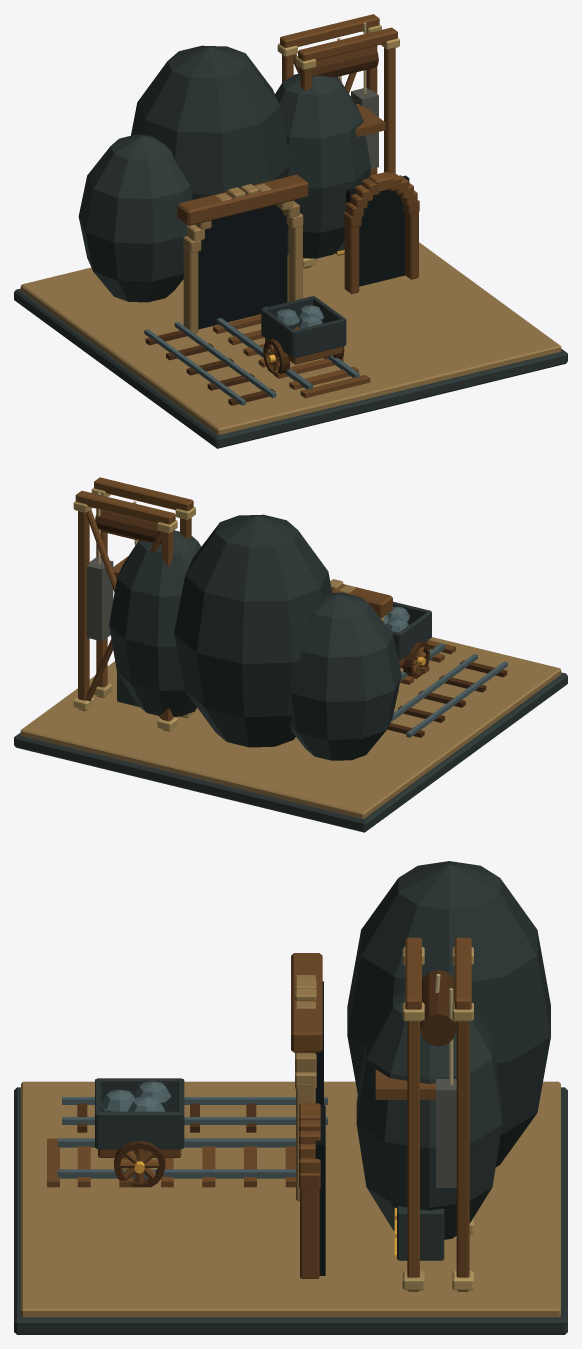
3 views of the same model, one above another, from view 1: azimuth 30°, elevation 25°; view 2: azimuth 150°, elevation 25°; view 3: azimuth 270°, elevation 25° (orthographic). The views are drawn at different scales.
Visible parts, largest first — view 1: mine_6_structure; view 2: mine_6_structure; view 3: mine_6_structure.
Boxes of the visible parts, bbox=[...] form: mine_6_structure: bbox=[14, 14, 567, 448]; mine_6_structure: bbox=[14, 477, 567, 832]; mine_6_structure: bbox=[14, 861, 567, 1334].
Bounding box in the file's own units: 5.6 × 3.78 × 5.6.
